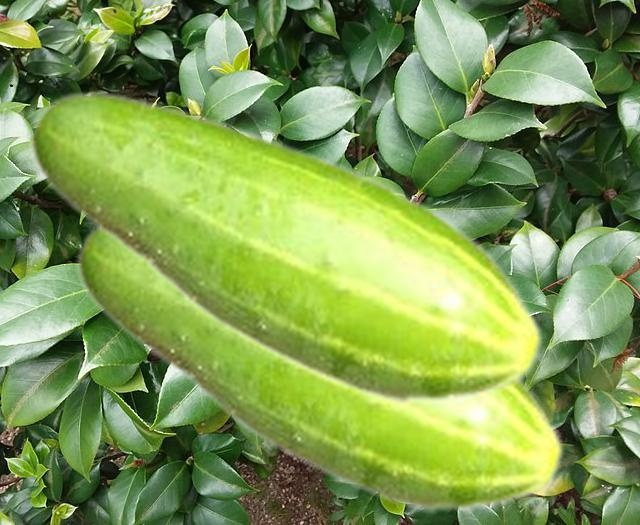cucumber: (28, 89, 544, 407), (75, 227, 565, 515)
